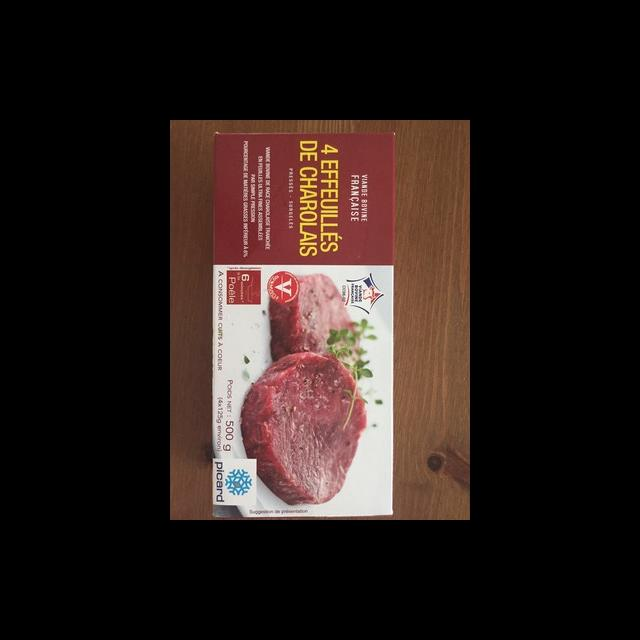beef: (212, 133, 395, 517)
